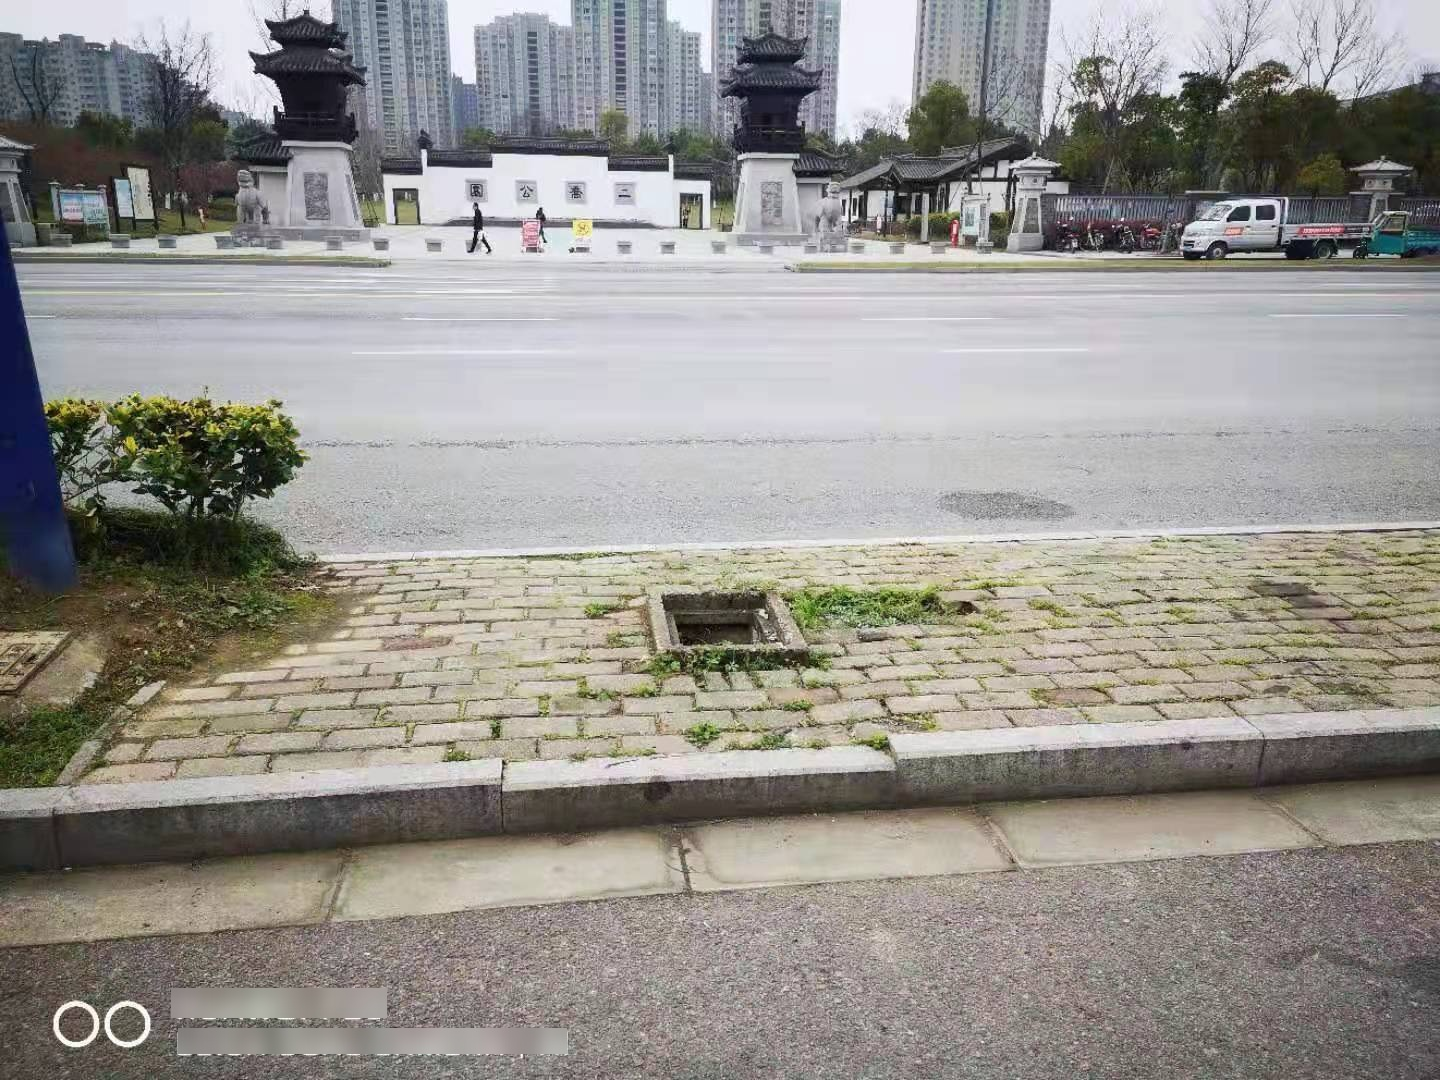lose: (647, 581, 811, 657)
